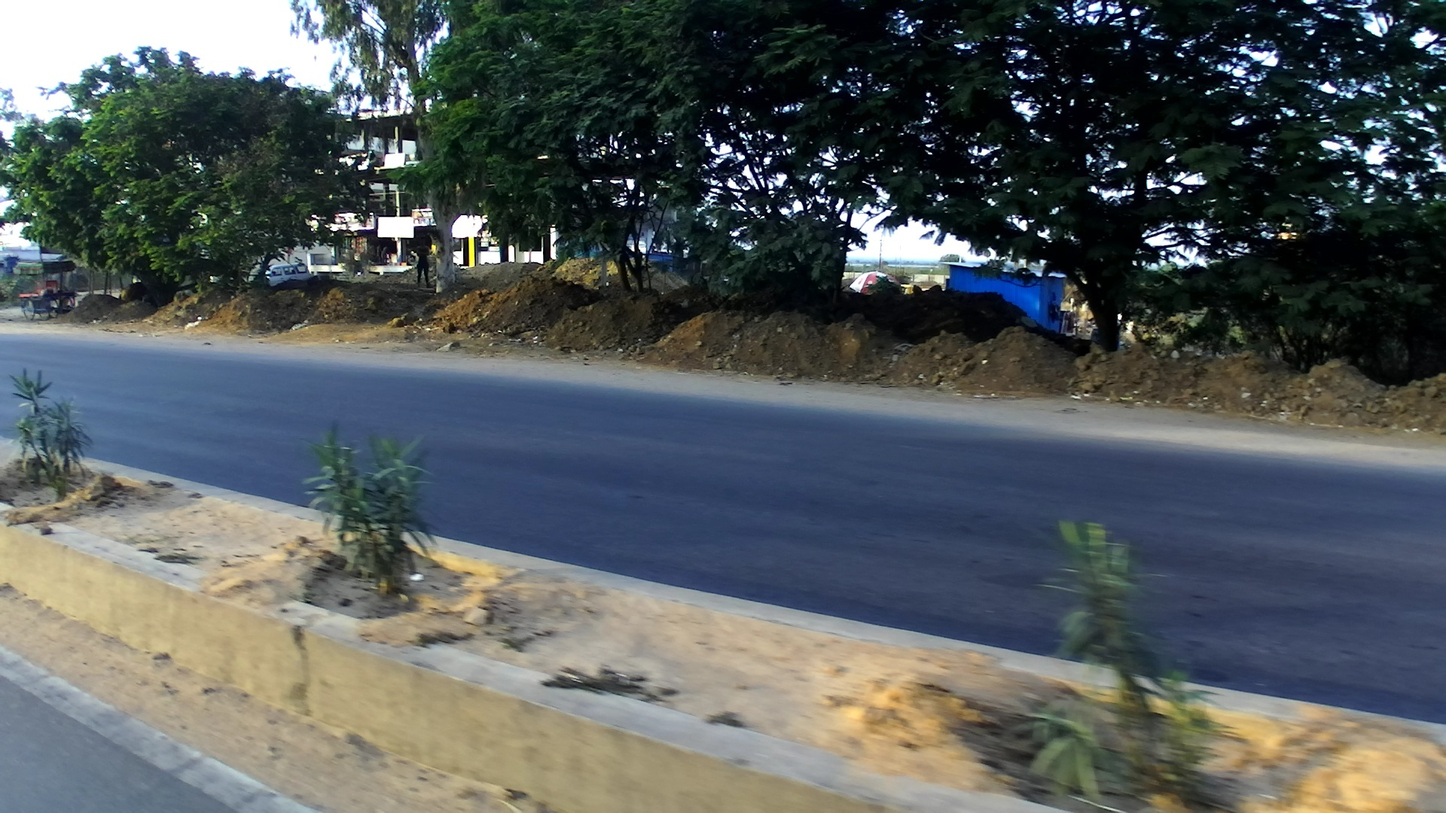car: (261, 260, 310, 291)
person: (413, 236, 434, 288)
vehicle fallback: (12, 258, 78, 318)
